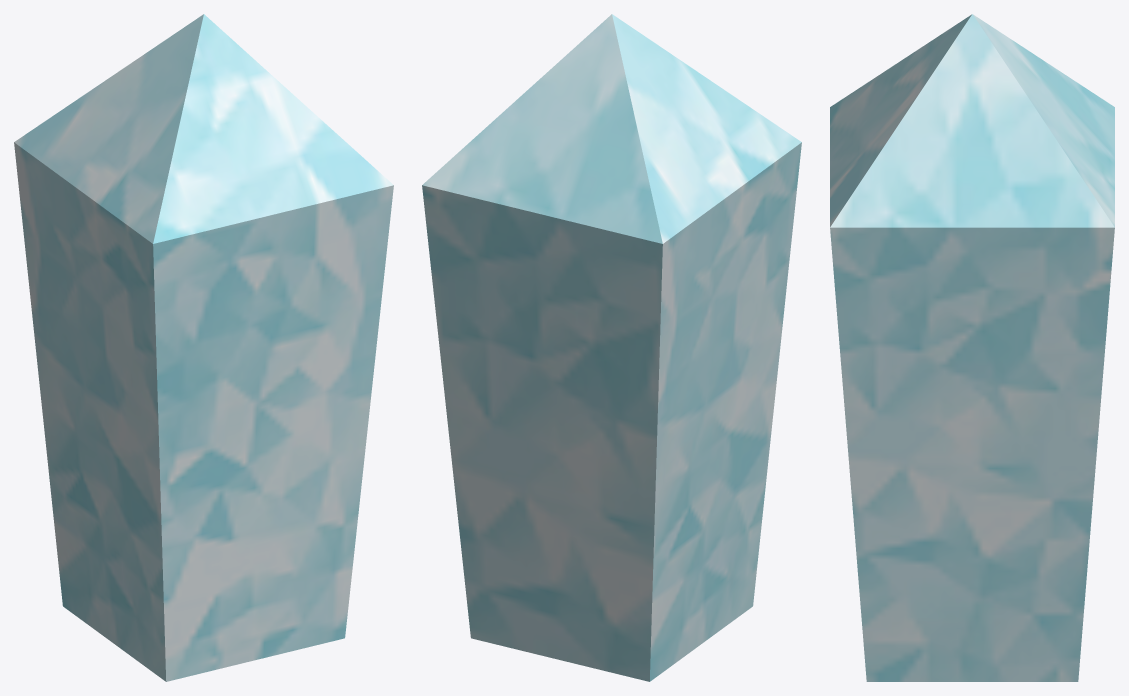
Rendered from sigil.obj.
3 renders of one model, left to right at view 1: azimuth 30°, elevation 25°; view 2: azimuth 150°, elevation 25°; view 3: azimuth 270°, elevation 25°, orthographic. The views are drawn at different scales.
Parts seen in each view (by area): view 1: Cube; view 2: Cube; view 3: Cube.
Part boxes in pixels (left/top/right/bottom): Cube: left=14, top=14, right=393, bottom=681; Cube: left=422, top=14, right=801, bottom=681; Cube: left=830, top=14, right=1114, bottom=681.
Bounding box in the file's own units: 2.69 × 6.5 × 2.69.
